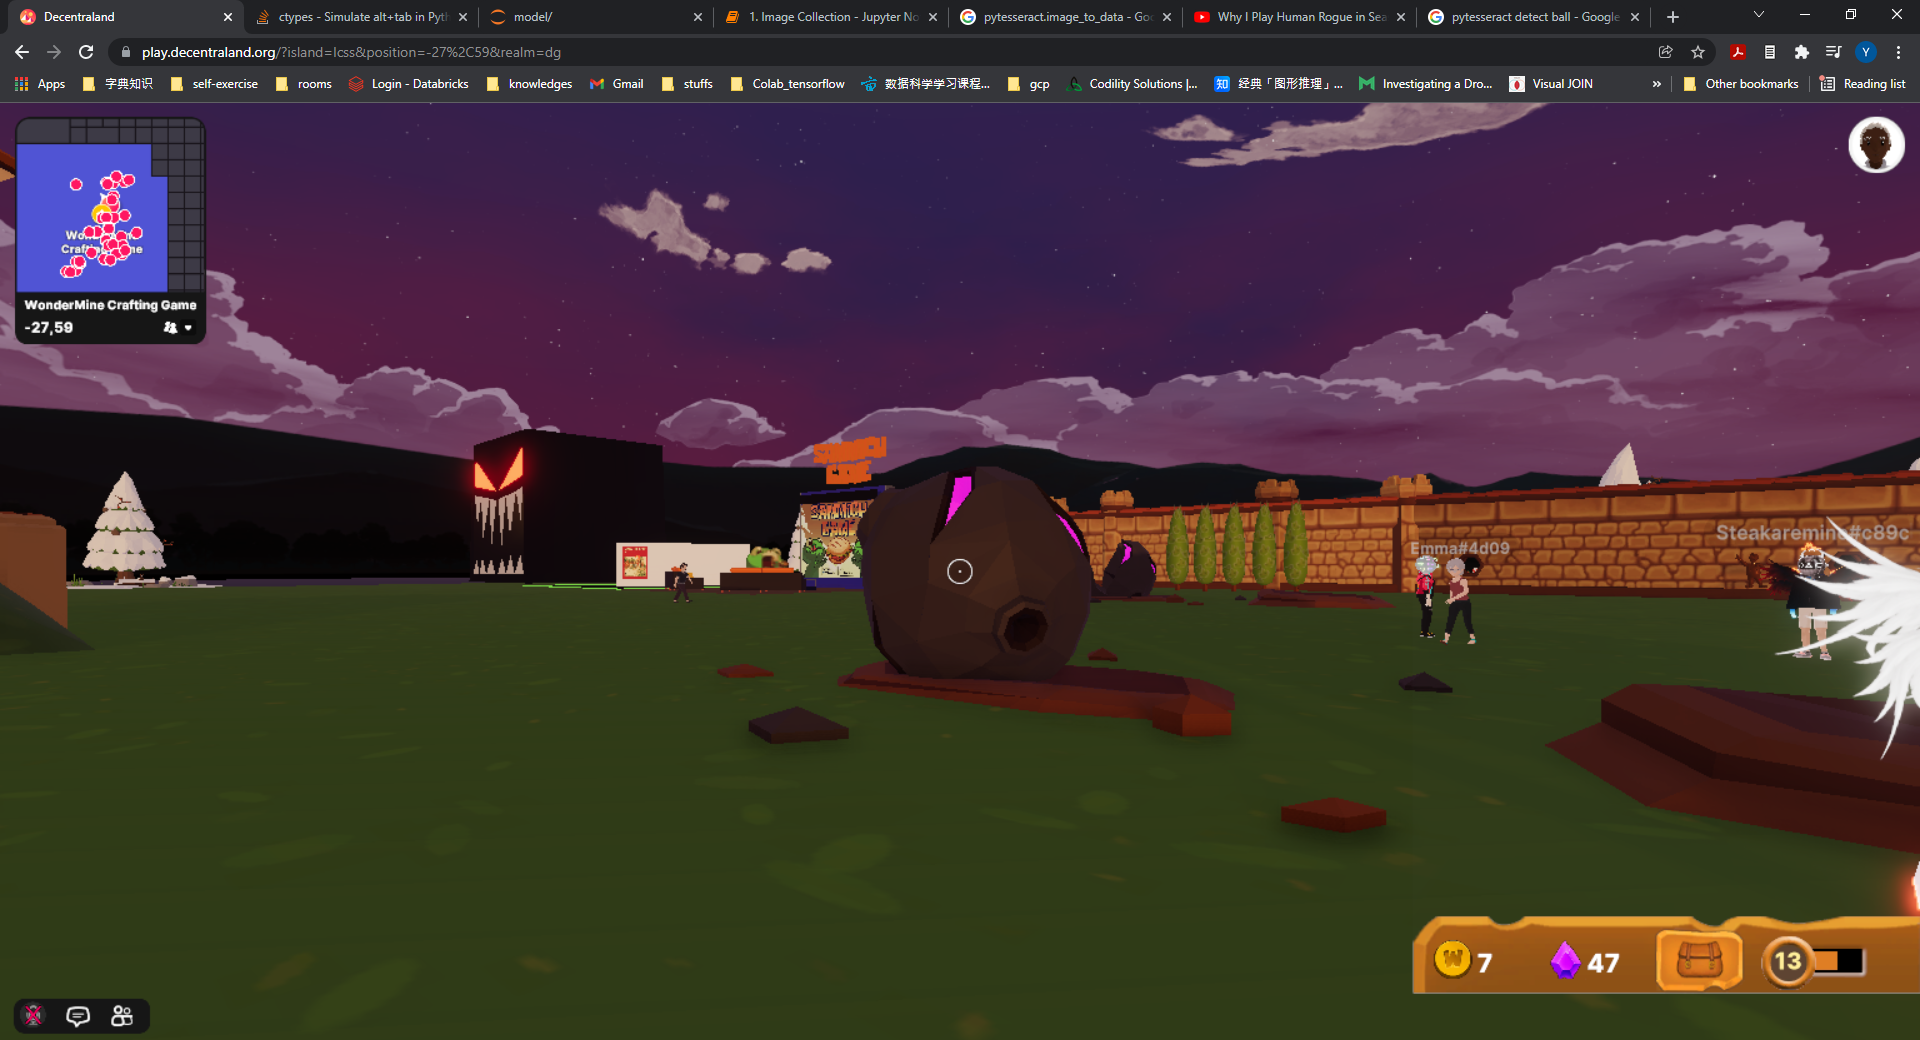black_ball: (804, 452, 1126, 681)
